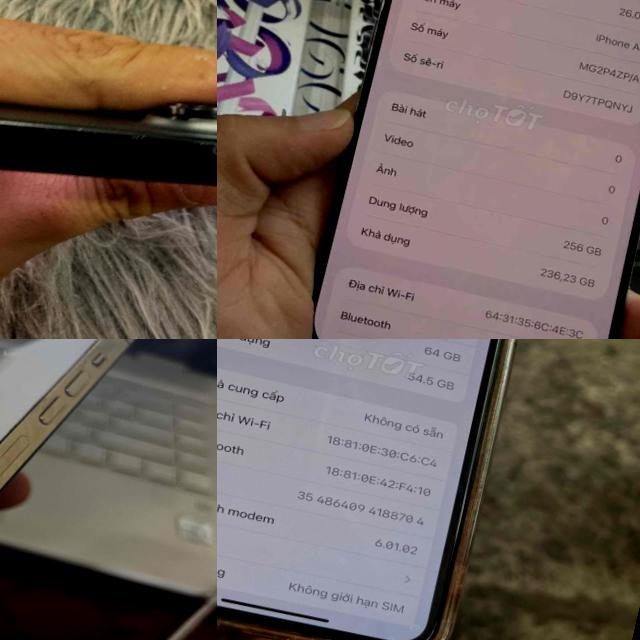gen_12_13: (0, 339, 149, 640)
gen_16: (0, 103, 217, 184)
gen_17: (286, 0, 640, 339)
gen_x_xs: (217, 339, 585, 640)
scratch: (17, 98, 180, 184), (182, 130, 217, 158)
